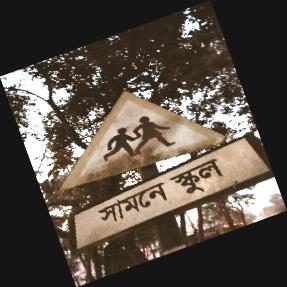School-in-front: (57, 90, 270, 252)
